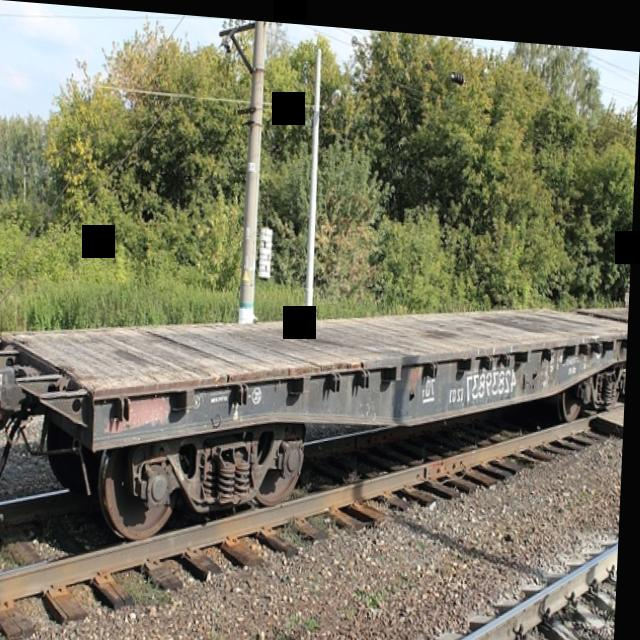flatcar: (0, 251, 631, 589)
